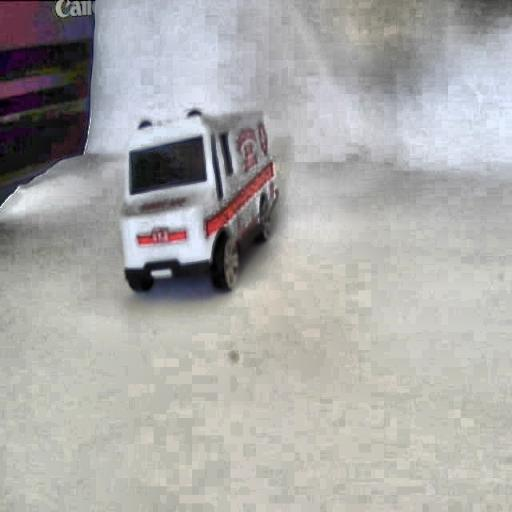ambulance: (120, 108, 278, 292)
